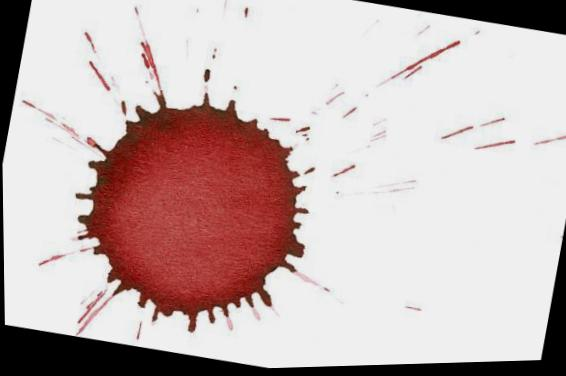Fire: (76, 93, 310, 331)
